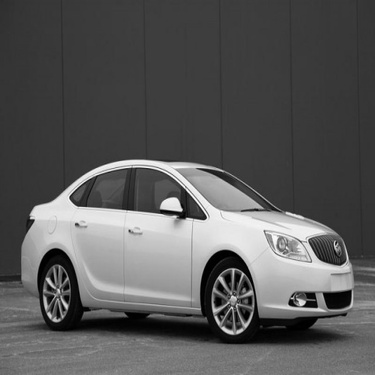car: (9, 150, 360, 347)
